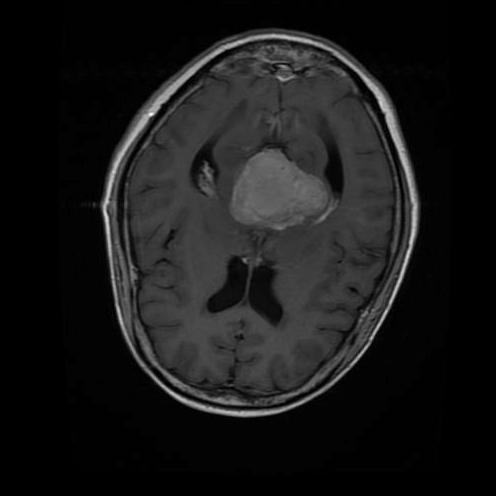Tumour-Meningioma: (206, 125, 365, 246)
